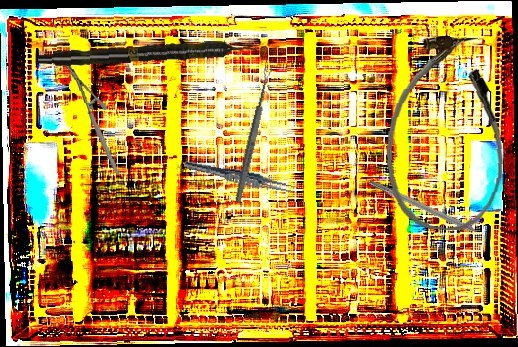Cannula: (381, 32, 512, 234)
Handpiece: (37, 38, 258, 70)
Hook Surgical: (367, 178, 494, 244)
Needle Holder: (65, 60, 120, 179)
Surgical Spoon: (233, 65, 274, 204)
Tissue Forceps: (182, 158, 301, 197)
